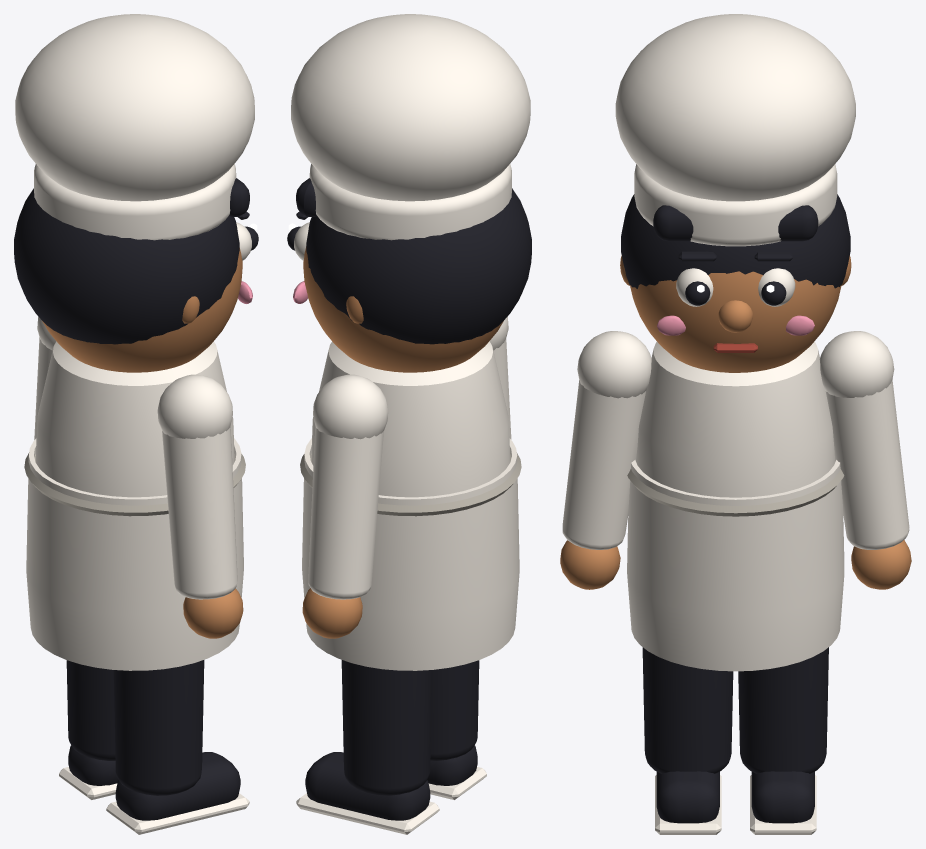
Rendered from ped_chef.glb.
3 views of the same model, side by side, from view 1: azimuth 30°, elevation 25°; view 2: azimuth 150°, elevation 25°; view 3: azimuth 270°, elevation 25° (orthographic).
Parts seen in each view (by area): view 1: ped_chef; view 2: ped_chef; view 3: ped_chef.
Boxes of the visible parts, <box> form: ped_chef: <box>14,14,258,834</box>; ped_chef: <box>287,14,531,834</box>; ped_chef: <box>560,14,911,834</box>.
Bounding box in the file's own units: 0.4689 × 1.64 × 0.6762.
Materials: 1 (1 with a texture image).
